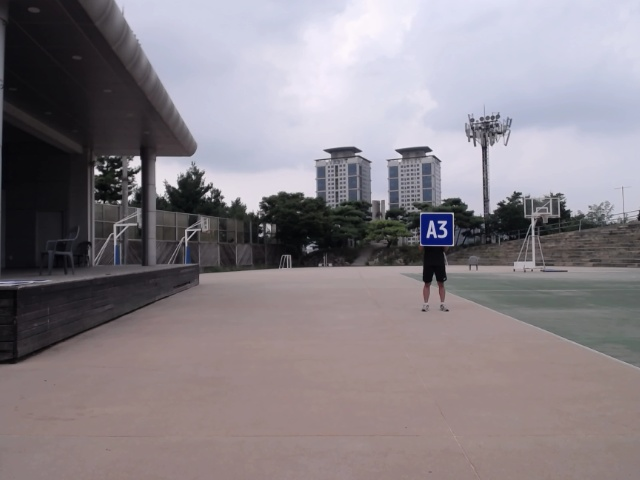delivery_a3: (420, 212, 454, 246)
